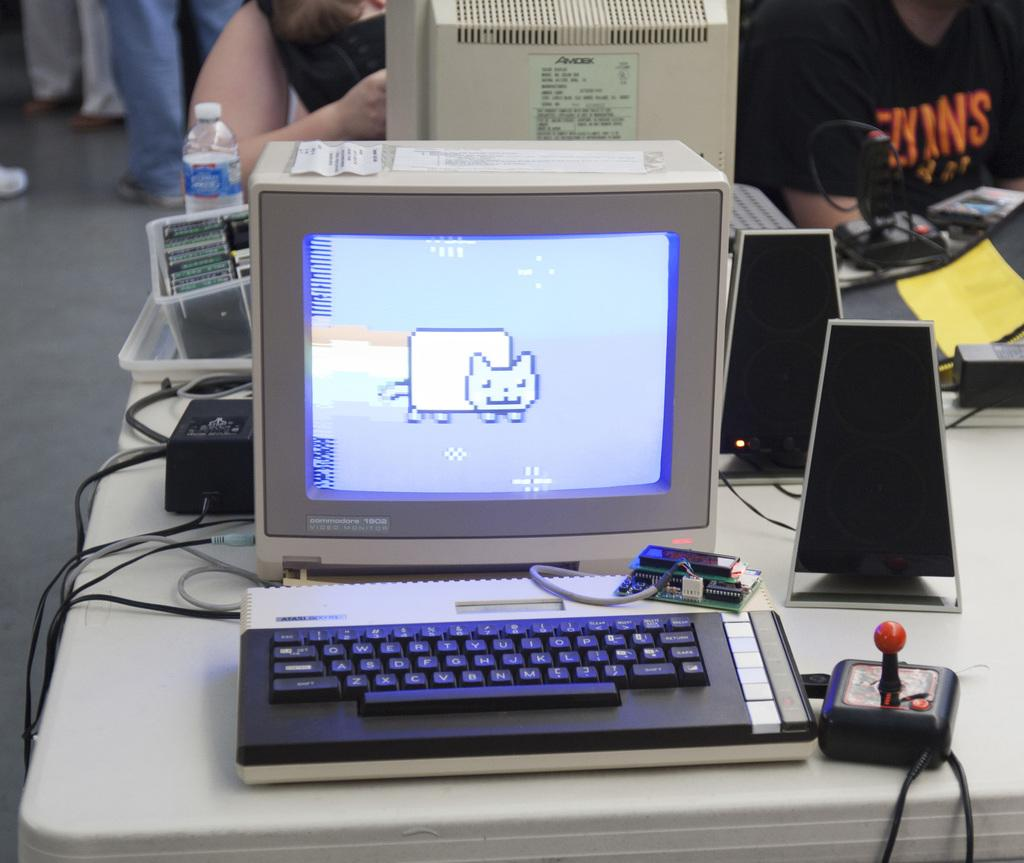Computer-keyboard: (241, 569, 809, 786)
